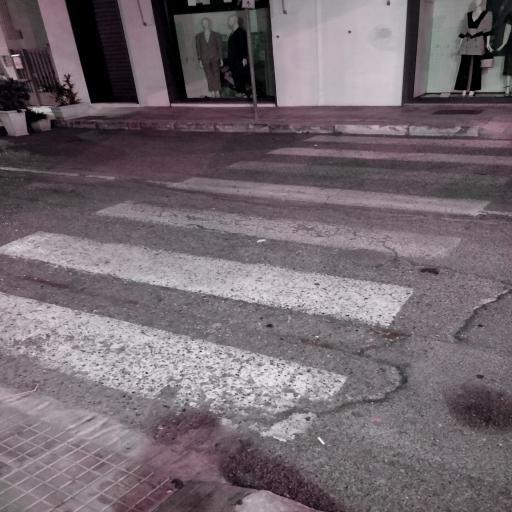crosswalk: (40, 174, 508, 266)
